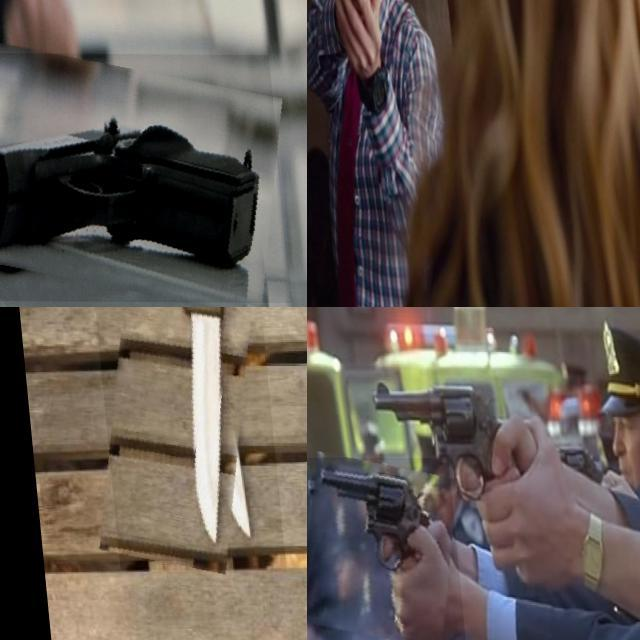-: (77, 307, 275, 570)
gun-knife-thesis - v11 Yolov5 augmented: (0, 52, 279, 302), (365, 368, 539, 586), (307, 457, 457, 640), (331, 0, 367, 41)
